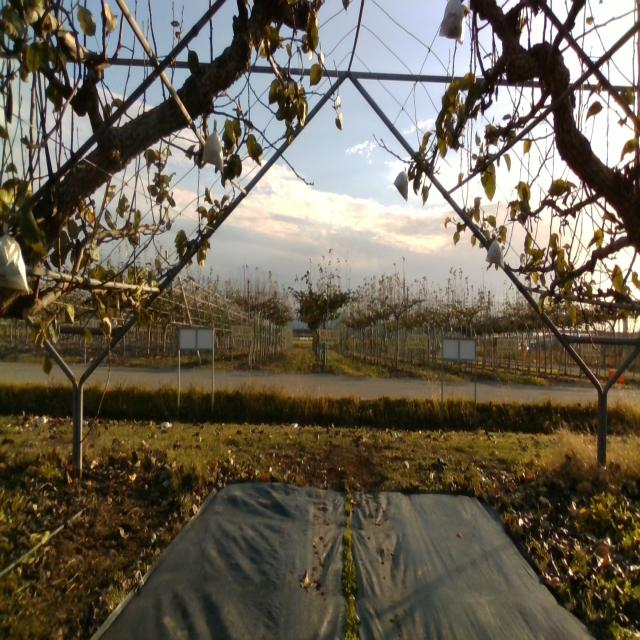pearbags: (1, 226, 32, 294), (201, 119, 225, 173), (438, 0, 464, 44), (485, 234, 505, 269), (394, 168, 409, 201)
